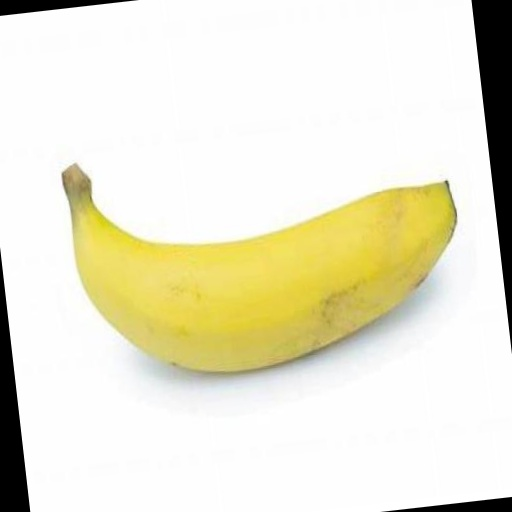fruit: (63, 165, 456, 371)
